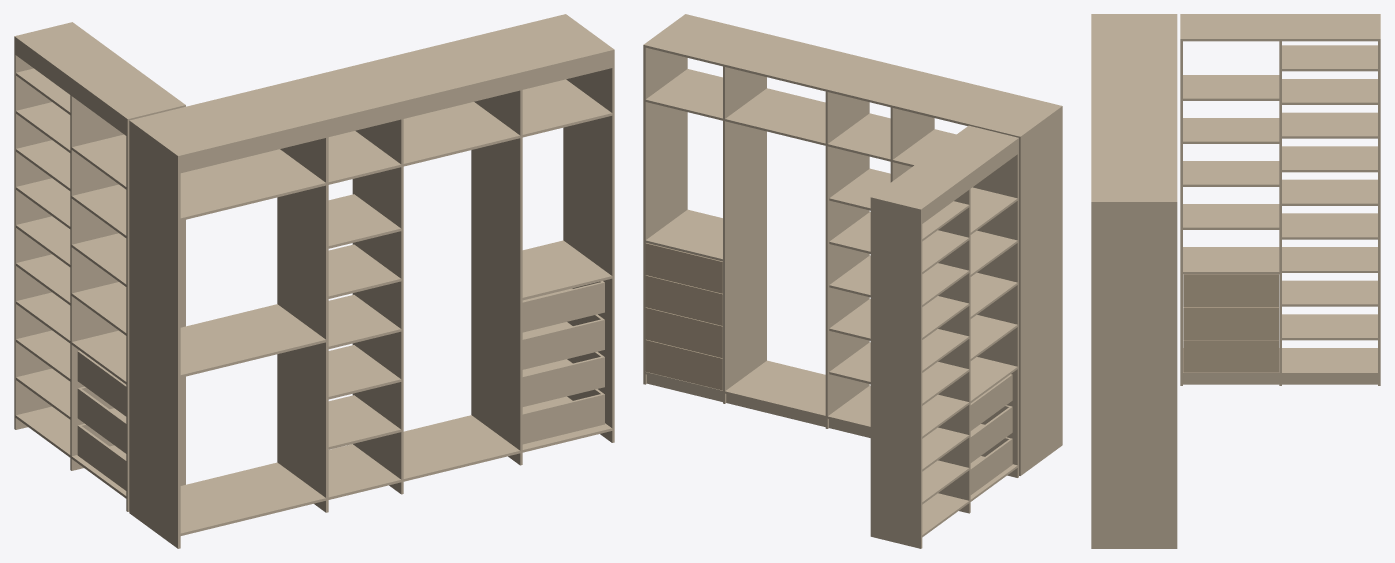
Rendered from dressing-3x2.dae.
3 renders of one model, left to right at view 1: azimuth 30°, elevation 25°; view 2: azimuth 150°, elevation 25°; view 3: azimuth 270°, elevation 25°, orthographic. The views are drawn at different scales.
Parts seen in each view (by area): view 1: Fond - Montant (×5), Gauche - Montant (×3), Gauche F - Étagère chaussures (×9), Fond B - Étagère mobile (×5), Fond D - Avant / arrière de tiroir (×4), Fond A - Dessus, Gauche E - Étagère mobile (×4), Fond A - Tablette mi-hauteur (fixe), Fond A - Fond bas (tablette fixe), Fond A - Tablette rangée haute (fixe), Fond C - Dessus, Fond C - Fond bas (tablette fixe) (+19 smaller); view 2: Fond - Montant (×5), Gauche - Montant (×3), Fond D - Façade tiroir (×4), Gauche F - Étagère chaussures (×9), Fond A - Dessus, Fond B - Étagère mobile (×5), Gauche E - Étagère mobile (×4), Fond C - Dessus, Fond C - Tablette rangée haute (fixe), Fond C - Fond bas (tablette fixe), Fond D - Dessus, Gauche E - Avant / arrière de tiroir (×3) (+14 smaller); view 3: Fond - Montant, Gauche F - Étagère chaussures (×9), Gauche E - Étagère mobile (×4), Gauche E - Façade tiroir (×3), Fond A - Dessus, Fond C - Dessus, Fond D - Dessus, Gauche - Montant (×3), Fond B - Dessus, Gauche E - Dessus, Gauche E - Tablette au-dessus des tiroirs (fixe), Gauche F - Fond bas (tablette fixe) (+4 smaller).
Part boxes in pixels (box(x1,y1,x2,y2)): Fond - Montant (×5): box(129, 14, 614, 548); Gauche - Montant (×3): box(14, 22, 185, 511); Gauche F - Étagère chaussures (×9): box(16, 68, 70, 419); Fond B - Étagère mobile (×5): box(328, 194, 401, 449); Fond D - Avant / arrière de tiroir (×4): box(522, 282, 602, 441); Fond A - Dessus: box(132, 84, 325, 157); Gauche E - Étagère mobile (×4): box(71, 134, 126, 335); Fond A - Tablette mi-hauteur (fixe): box(180, 304, 325, 377); Fond A - Fond bas (tablette fixe): box(180, 462, 325, 535); Fond A - Tablette rangée haute (fixe): box(180, 149, 325, 220); Fond C - Dessus: box(355, 37, 520, 103); Fond C - Fond bas (tablette fixe): box(403, 415, 520, 481); Fond - Montant (×5): box(643, 14, 1062, 475); Gauche - Montant (×3): box(870, 125, 1018, 548); Fond D - Façade tiroir (×4): box(645, 243, 722, 390); Gauche F - Étagère chaussures (×9): box(922, 201, 969, 504); Fond A - Dessus: box(892, 75, 1059, 137); Fond B - Étagère mobile (×5): box(829, 168, 890, 384); Gauche E - Étagère mobile (×4): box(970, 187, 1017, 360); Fond C - Dessus: box(725, 34, 867, 91); Fond C - Tablette rangée haute (fixe): box(725, 88, 825, 145); Fond C - Fond bas (tablette fixe): box(725, 360, 825, 417); Fond D - Dessus: box(645, 14, 764, 66); Gauche E - Avant / arrière de tiroir (×3): box(970, 375, 1011, 492); Fond - Montant: box(1091, 201, 1177, 548); Gauche F - Étagère chaussures (×9): box(1282, 45, 1377, 340); Gauche E - Étagère mobile (×4): box(1183, 75, 1279, 229); Gauche E - Façade tiroir (×3): box(1183, 274, 1278, 372); Fond A - Dessus: box(1091, 15, 1177, 77); Fond C - Dessus: box(1091, 111, 1177, 161); Fond D - Dessus: box(1091, 162, 1177, 200); Gauche - Montant (×3): box(1180, 14, 1380, 385); Fond B - Dessus: box(1091, 78, 1177, 110); Gauche E - Dessus: box(1183, 14, 1279, 41); Gauche E - Tablette au-dessus des tiroirs (fixe): box(1183, 247, 1279, 274); Gauche F - Fond bas (tablette fixe): box(1282, 348, 1377, 375).
Bounding box in the file's own units: 3 × 1.95 × 2.58.
